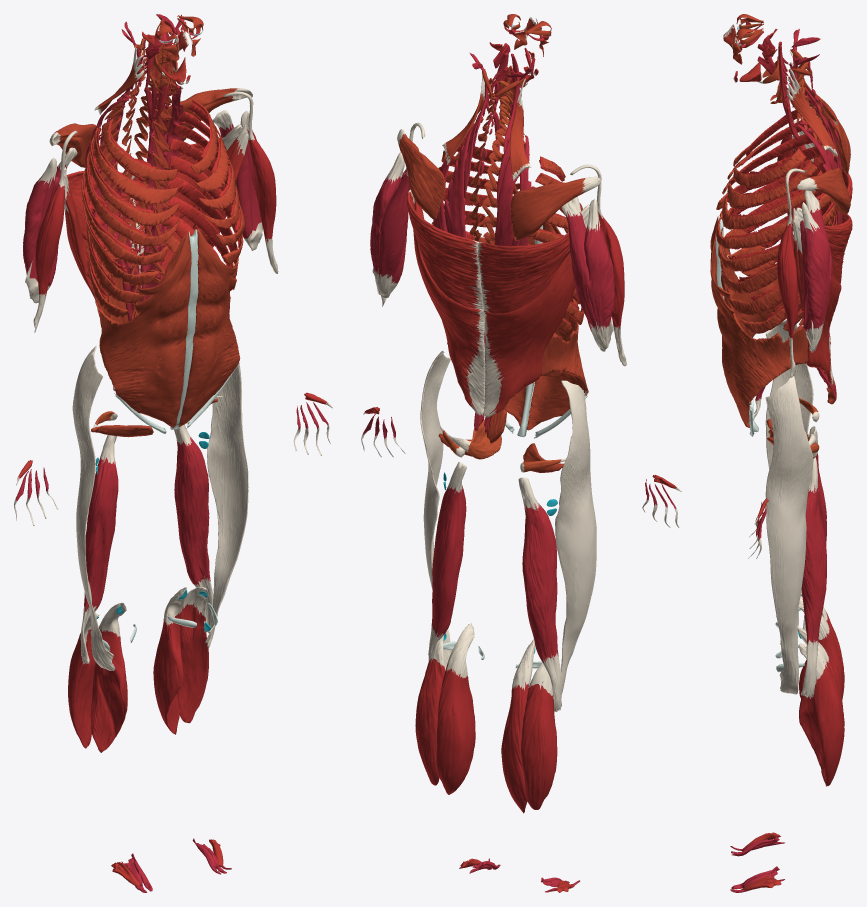
The model's file is muscular-2.glb.
The picture shows the model from 3 angles, left to right: view 1: azimuth 30°, elevation 25°; view 2: azimuth 150°, elevation 25°; view 3: azimuth 270°, elevation 25°; orthographic projection.
Parts seen in each view (by area): view 1: Internal abdominal oblique muscle.r, Internal intercostal muscles.r, Iliotibial tract.l, Internal abdominal oblique muscle.l, Innermost intercostal muscles.l, Long head of biceps femoris.l, Iliotibial tract.r, Long head of biceps femoris.r, Medial head of gastrocnemius.r, Lateral head of gastrocnemius.l, Internal intercostal muscles.l, Medial head of gastrocnemius.l (+18 smaller); view 2: Latissimus dorsi muscle.r, Latissimus dorsi muscle.l, Iliotibial tract.r, Long head of biceps femoris.r, Medial head of gastrocnemius.l, Long head of biceps femoris.l, Lateral head of gastrocnemius.r, Internal abdominal oblique muscle.r, Iliotibial tract.l, Medial head of gastrocnemius.r, Lateral head of triceps brachii.r, Infraspinatus muscle.r (+15 smaller); view 3: Iliotibial tract.l, Internal intercostal muscles.l, Internal abdominal oblique muscle.l, Long head of biceps femoris.l, Innermost intercostal muscles.r, Latissimus dorsi muscle.l, Lateral head of gastrocnemius.l, Lateral head of triceps brachii.l, Long head of biceps brachii.l, Innermost intercostal muscles.l, Iliotibial tract.r, Medial head of gastrocnemius.l (+14 smaller).
Part boxes in pixels (left/top/right/bottom): Internal abdominal oblique muscle.r: left=95, top=230, right=191, bottom=427; Internal intercostal muscles.r: left=81, top=120, right=180, bottom=317; Iliotibial tract.l: left=205, top=362, right=248, bottom=647; Internal abdominal oblique muscle.l: left=178, top=228, right=240, bottom=425; Innermost intercostal muscles.l: left=166, top=99, right=241, bottom=267; Long head of biceps femoris.l: left=174, top=424, right=213, bottom=632; Iliotibial tract.r: left=72, top=345, right=115, bottom=670; Long head of biceps femoris.r: left=80, top=435, right=118, bottom=664; Medial head of gastrocnemius.r: left=90, top=602, right=127, bottom=752; Lateral head of gastrocnemius.l: left=177, top=586, right=208, bottom=723; Internal intercostal muscles.l: left=164, top=100, right=245, bottom=289; Medial head of gastrocnemius.l: left=153, top=587, right=186, bottom=734; Latissimus dorsi muscle.r: left=478, top=204, right=589, bottom=417; Latissimus dorsi muscle.l: left=407, top=189, right=485, bottom=415; Iliotibial tract.r: left=555, top=380, right=596, bottom=693; Long head of biceps femoris.r: left=518, top=477, right=562, bottom=712; Medial head of gastrocnemius.l: left=436, top=623, right=475, bottom=794; Long head of biceps femoris.l: left=428, top=462, right=466, bottom=661; Lateral head of gastrocnemius.r: left=521, top=663, right=557, bottom=809; Internal abdominal oblique muscle.r: left=527, top=223, right=588, bottom=430; Iliotibial tract.l: left=420, top=350, right=452, bottom=670; Medial head of gastrocnemius.r: left=501, top=639, right=534, bottom=813; Lateral head of triceps brachii.r: left=584, top=199, right=614, bottom=349; Infraspinatus muscle.r: left=510, top=176, right=601, bottom=240; Iliotibial tract.l: left=765, top=376, right=813, bottom=694; Internal intercostal muscles.l: left=716, top=149, right=836, bottom=333; Internal abdominal oblique muscle.l: left=710, top=220, right=808, bottom=427; Long head of biceps femoris.l: left=801, top=457, right=826, bottom=698; Innermost intercostal muscles.r: left=725, top=110, right=831, bottom=262; Latissimus dorsi muscle.l: left=793, top=207, right=852, bottom=384; Lateral head of gastrocnemius.l: left=799, top=643, right=844, bottom=785; Lateral head of triceps brachii.l: left=802, top=202, right=831, bottom=350; Long head of biceps brachii.l: left=777, top=168, right=805, bottom=377; Innermost intercostal muscles.l: left=725, top=148, right=834, bottom=326; Iliotibial tract.r: left=765, top=320, right=813, bottom=644; Medial head of gastrocnemius.l: left=797, top=626, right=843, bottom=786.
Bounding box in the file's own units: 0.6179 × 1.6 × 0.2421.
